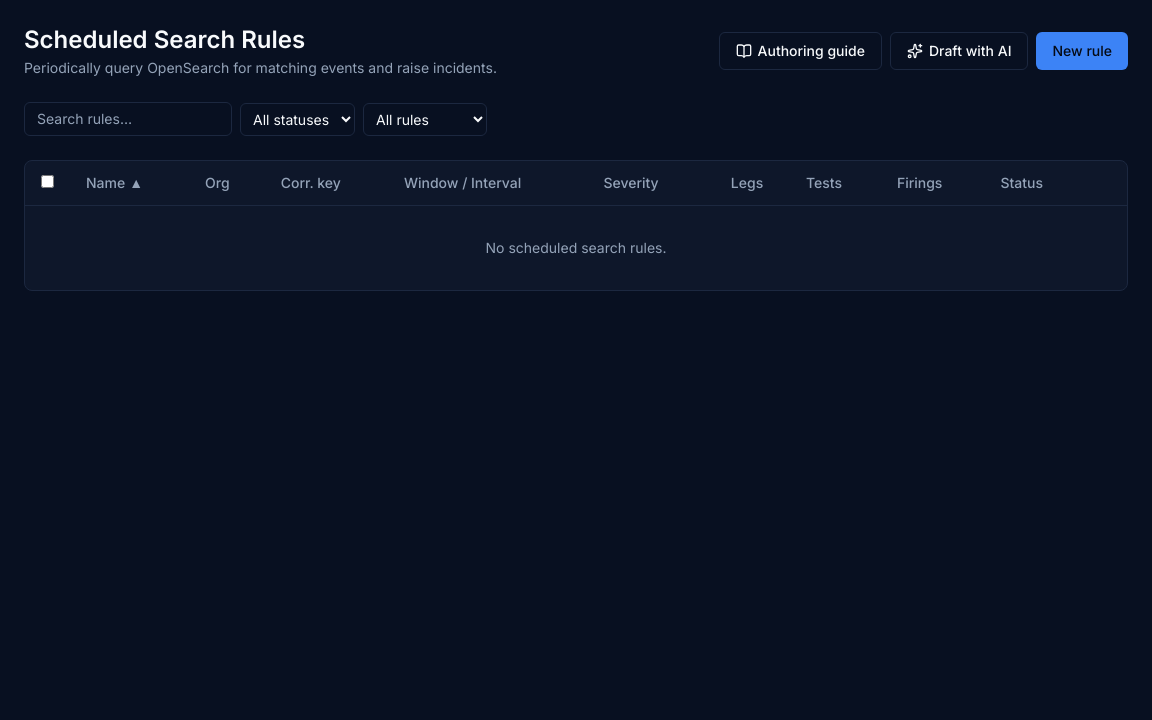
Test case: SearchRulesAdmin — Diversity Constraint UI › surfaces a server validation error when a blocked diversity rule is saved
This screenshot has width=1152, height=720.
Click the button "New rule" at (1082, 51), box [1036,32,1128,70]
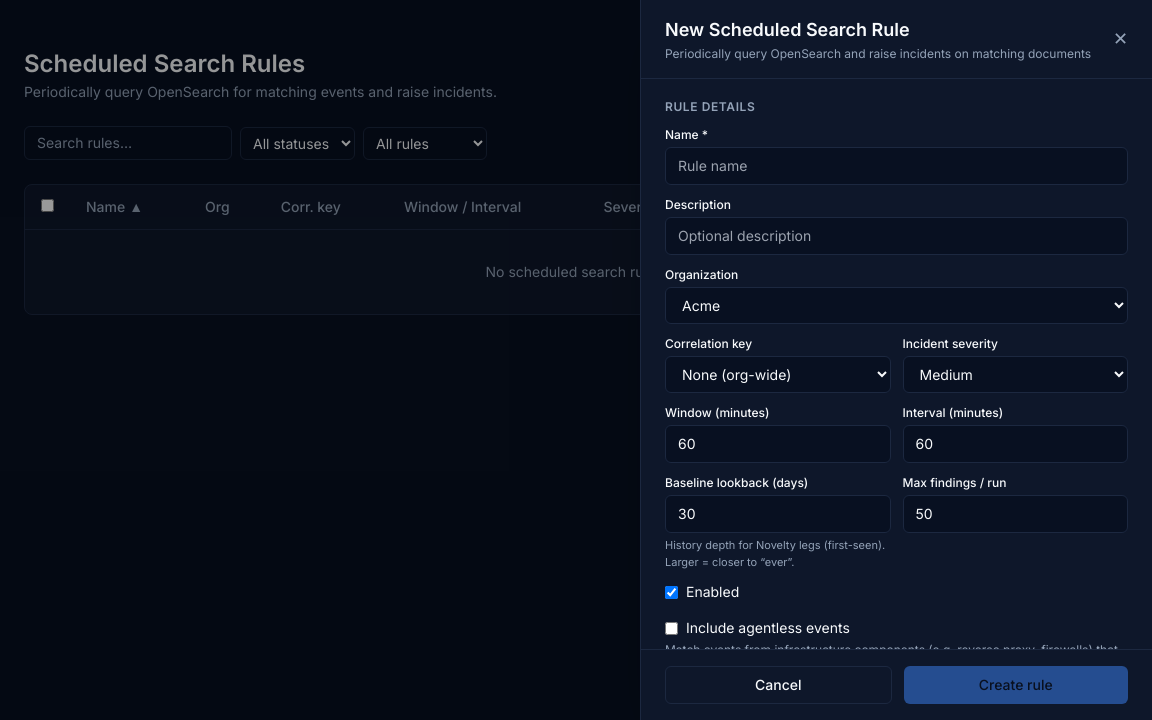
Type "Bad diversity" into the field with placeholder "Rule name" at (896, 166), box [665,147,1128,185]
(page scrolled)
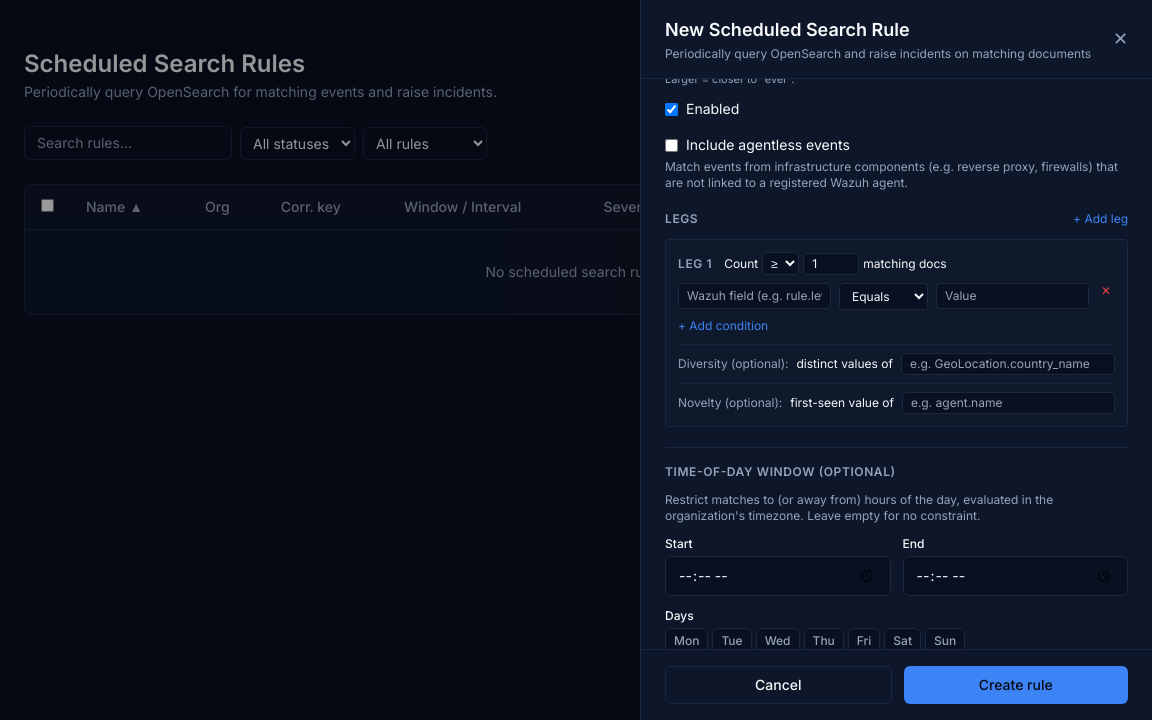
Type "GeoLocation.country_name" into the field named "Leg 1 distinct field" at (1008, 364), box [901,353,1115,375]
(page scrolled)
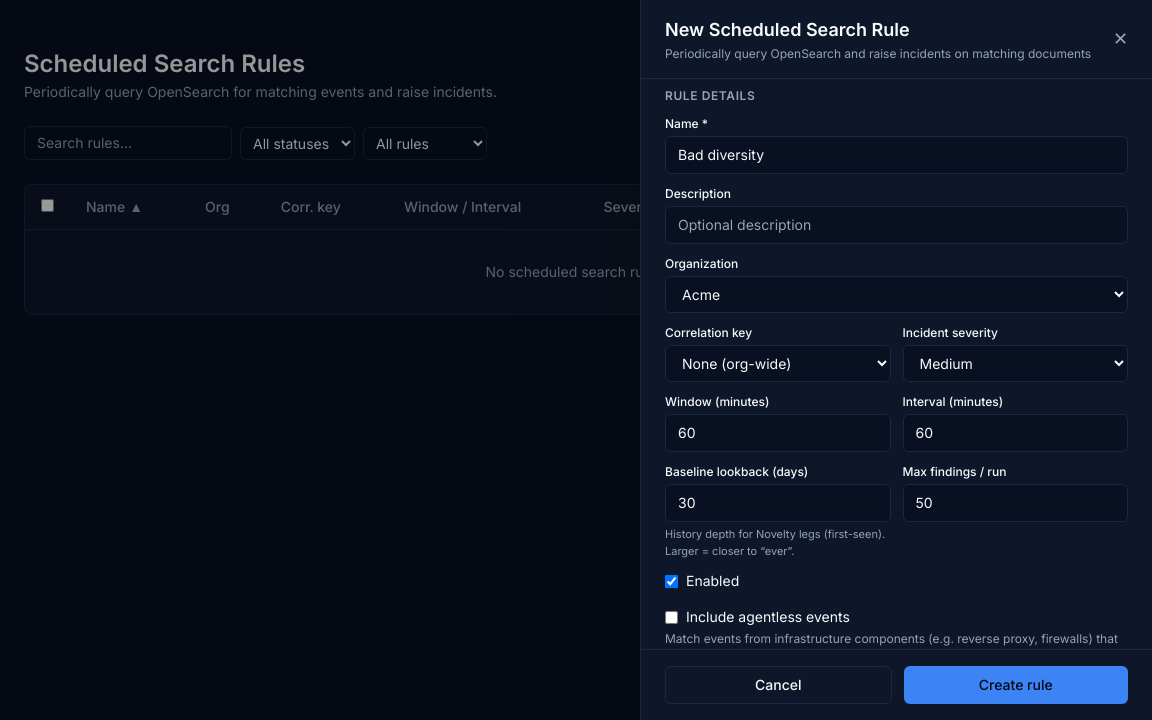
Select "Username (user.name)" in the dropdown named "Correlation key" at (778, 364), box [665,345,890,382]
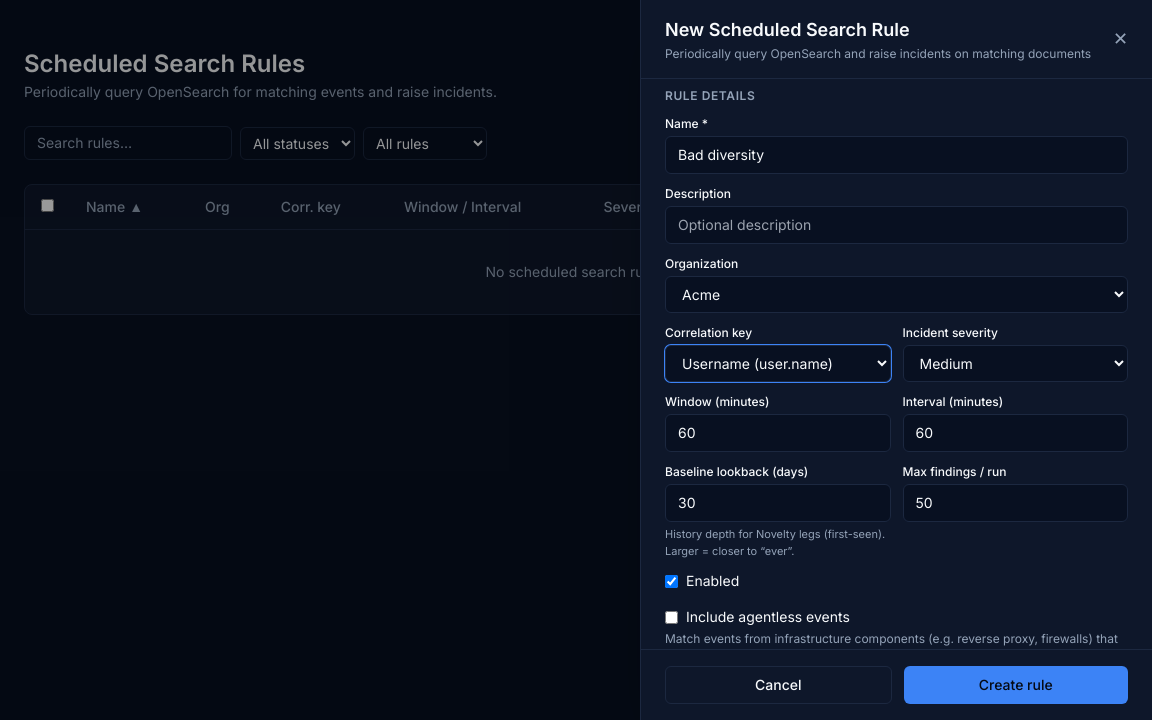
Click the button "Create rule" at (1016, 685), box [904,666,1128,704]
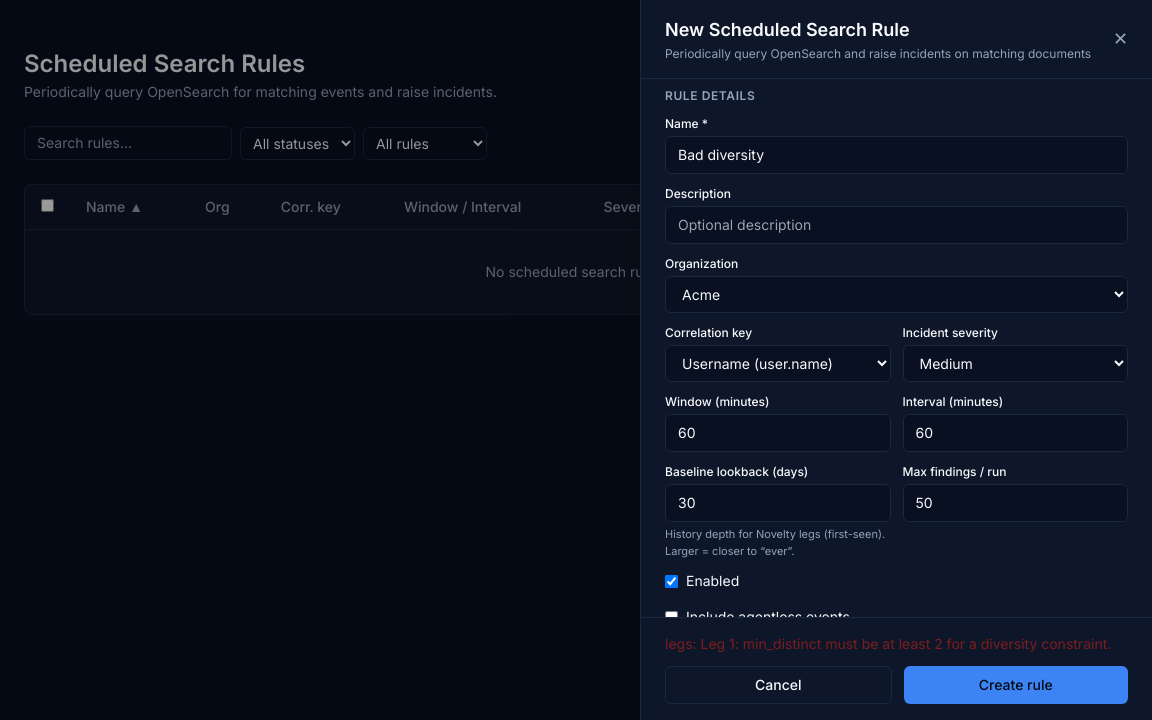
Now the text "min_distinct must be at least 2" is shown, box [665,635,1111,652]
